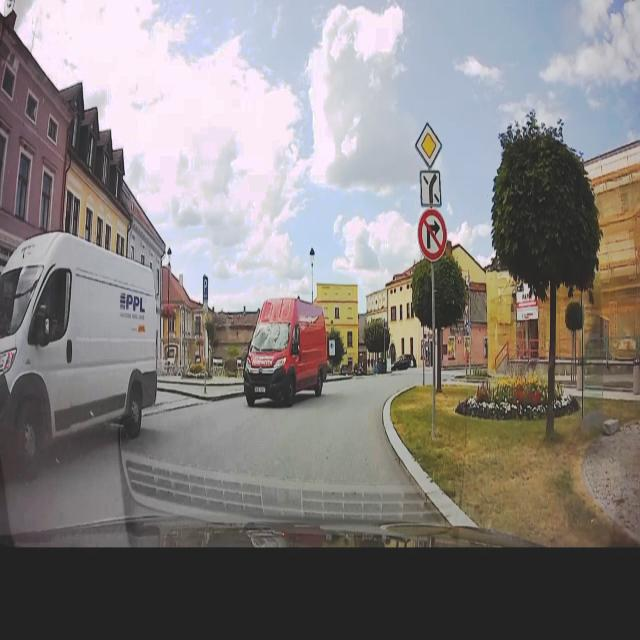Priority road: (414, 117, 444, 172)
